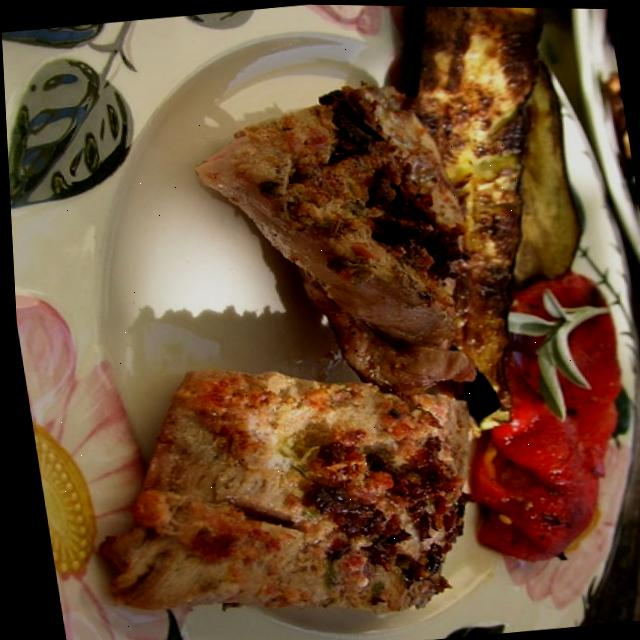猪肉菜式: (17, 0, 640, 640)
